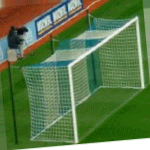goals: (20, 16, 145, 145)
